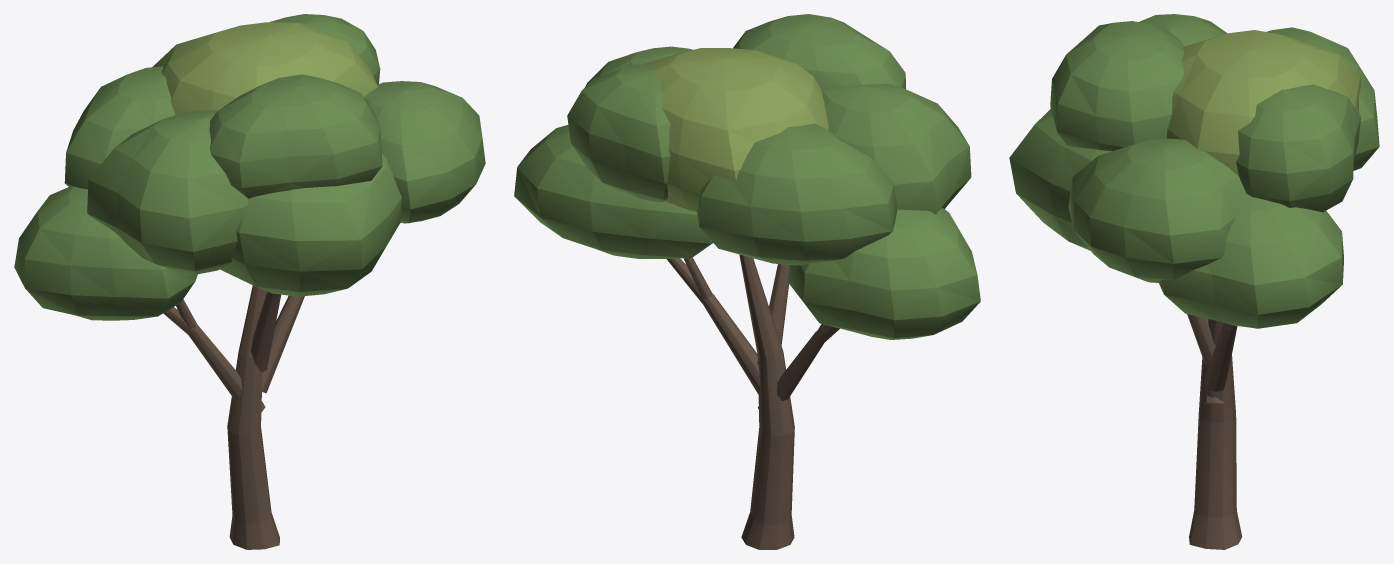
File: TREE_03.glb
The picture shows the model from 3 angles, left to right: view 1: azimuth 30°, elevation 25°; view 2: azimuth 150°, elevation 25°; view 3: azimuth 270°, elevation 25°; orthographic projection. The views are drawn at different scales.
Visible parts, largest first — view 1: CIVRUM_GAME_TREE_03; view 2: CIVRUM_GAME_TREE_03; view 3: CIVRUM_GAME_TREE_03.
Boxes of the visible parts, x1=… form: CIVRUM_GAME_TREE_03: x1=14, y1=14, x2=485, y2=549; CIVRUM_GAME_TREE_03: x1=514, y1=14, x2=980, y2=549; CIVRUM_GAME_TREE_03: x1=1009, y1=14, x2=1379, y2=549.
Bounding box in the file's own units: 5.38 × 5.65 × 3.77.
